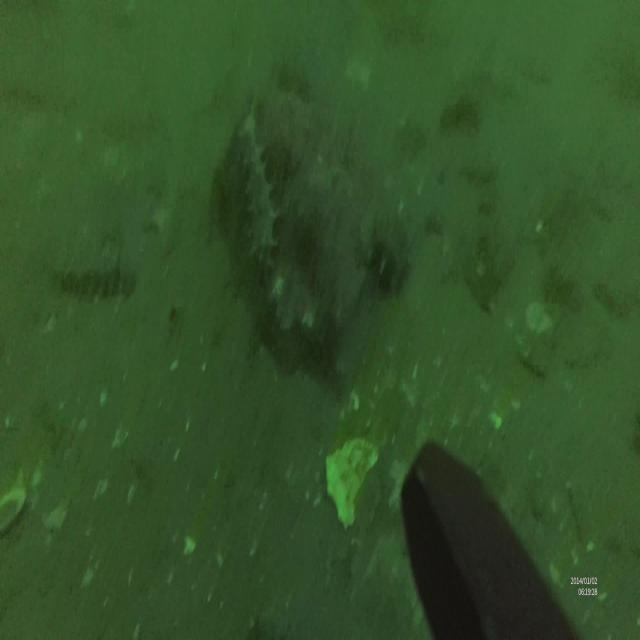holothurian: (234, 112, 279, 282), (58, 261, 136, 302)
